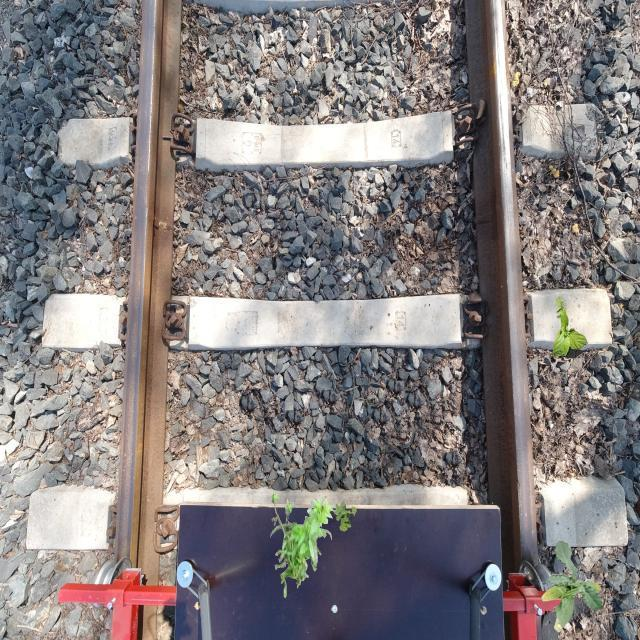Plant: (270, 491, 334, 598), (541, 539, 604, 632), (553, 296, 588, 358), (333, 501, 357, 532)
